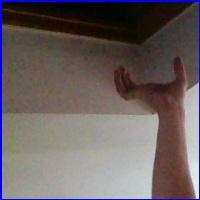space: (105, 50, 194, 107)
